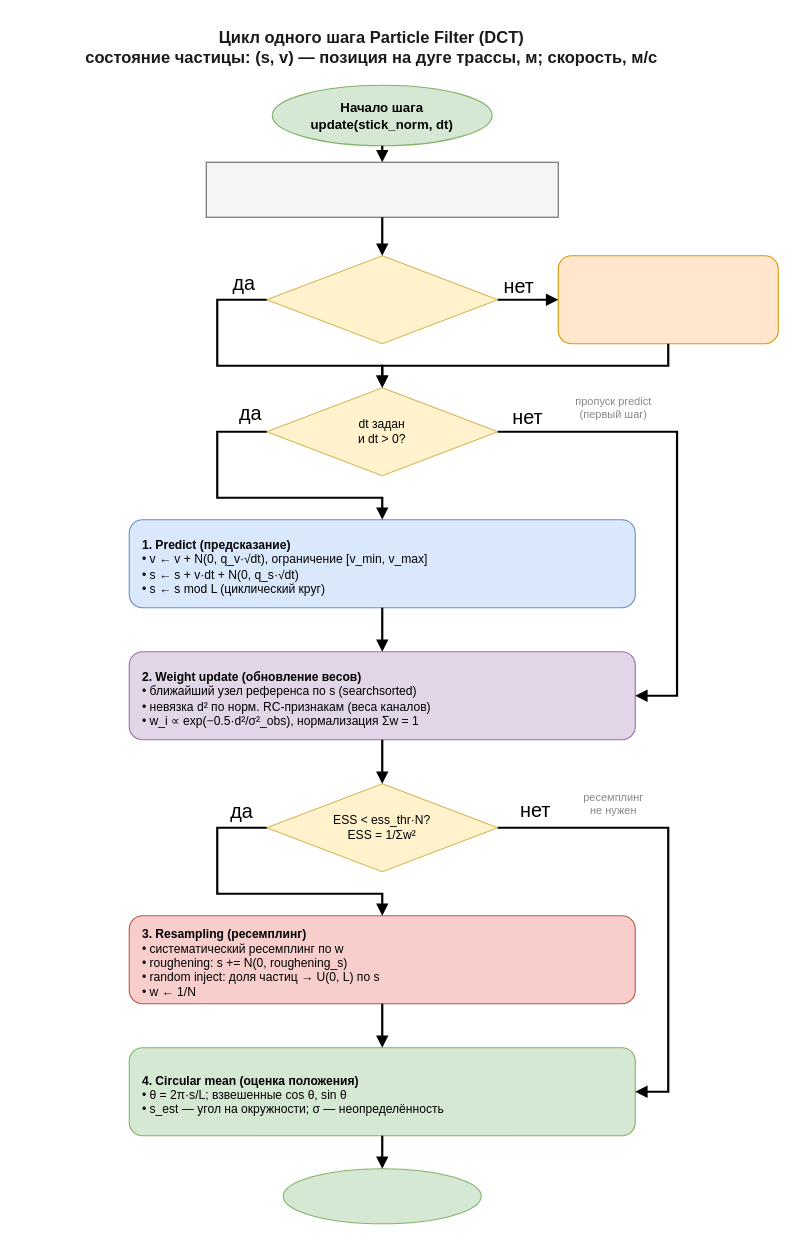
Image size: 798x1243. Some labels were removed from this diagram. The centre of each missing label's shape, as x and y in pixels:
reset() частицы у старта и финиша круга; равномерные веса w = 1/N: point 667,299
Вход: нормализованный вектор RC stick_norm; интервал dt с предыдущего шага (сек): point 381,189
Выход: s_est, σ: point 381,1196
Фильтр инициализирован?: point 382,299
